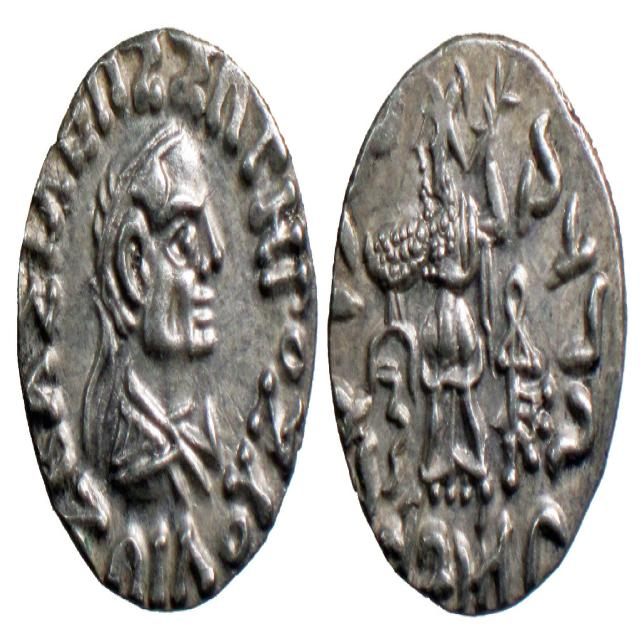Coin: (321, 27, 627, 615), (16, 25, 317, 610)
